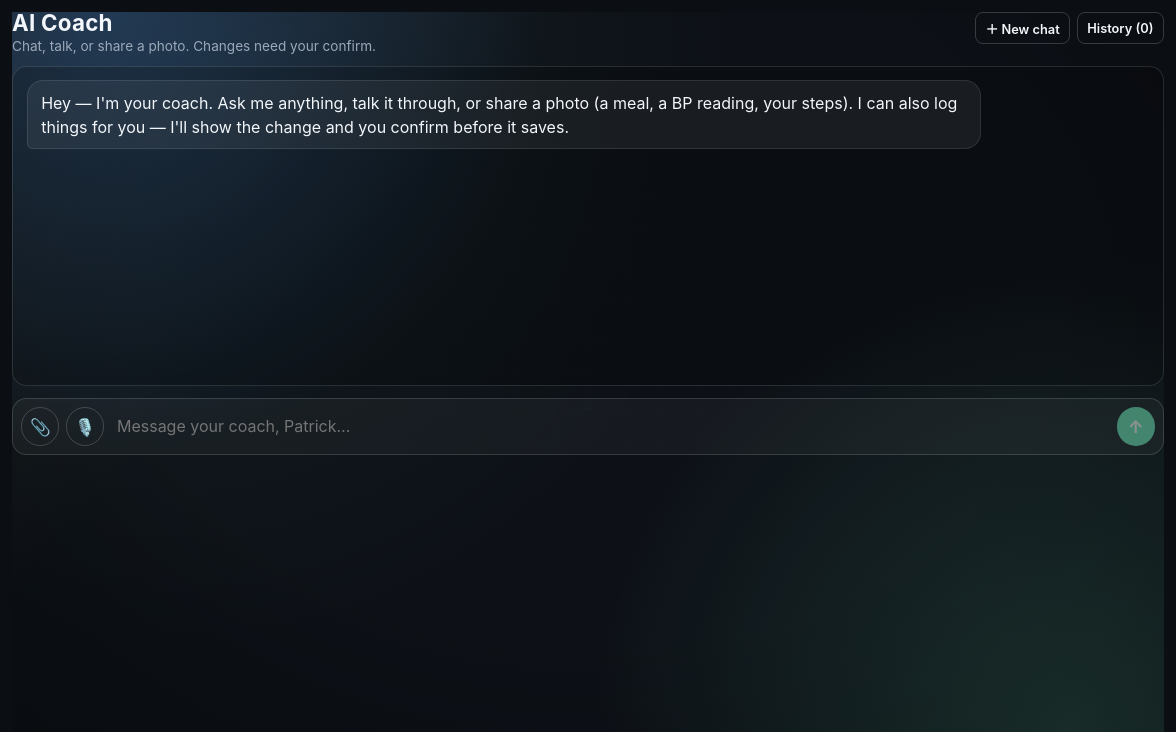
Scenario: AICoachPanel › sends a chat message and renders the AI response
The width and height of the screenshot is (1176, 732).
Type "What should I focus on today?" into the text box labelled "Message" at [610, 426], box [111,407,1110,446]
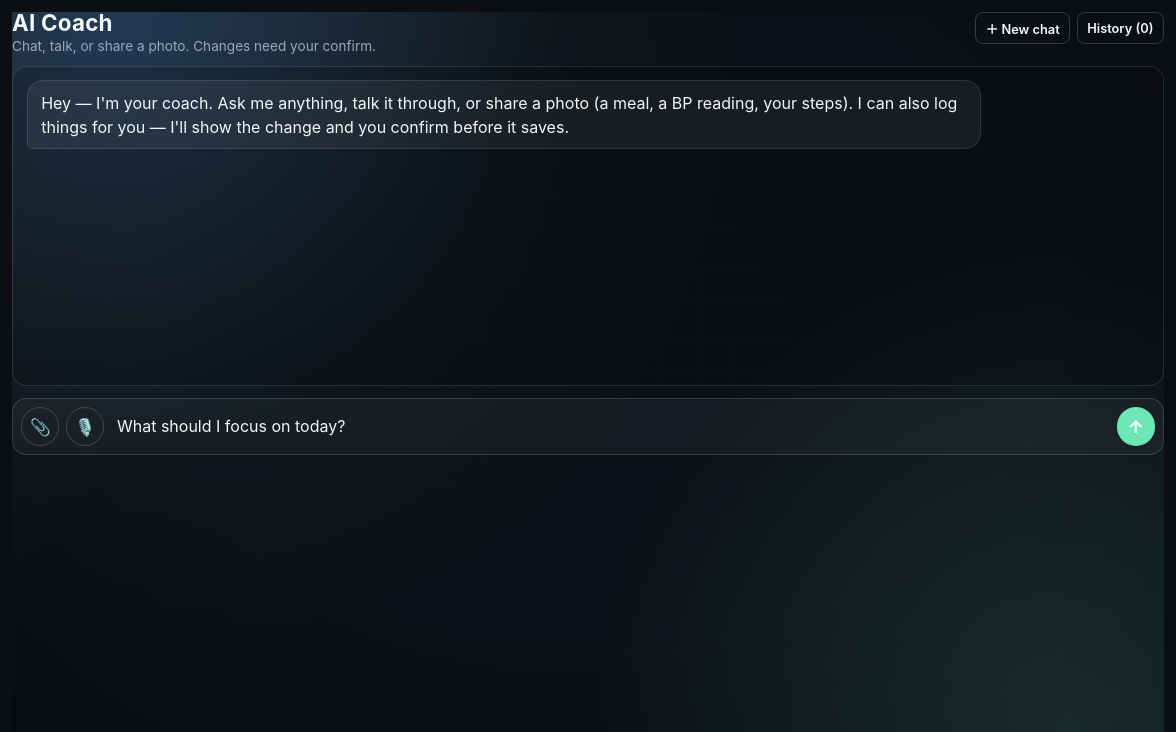
Click the button named "Send" at [1136, 427], box [1117,407,1155,446]
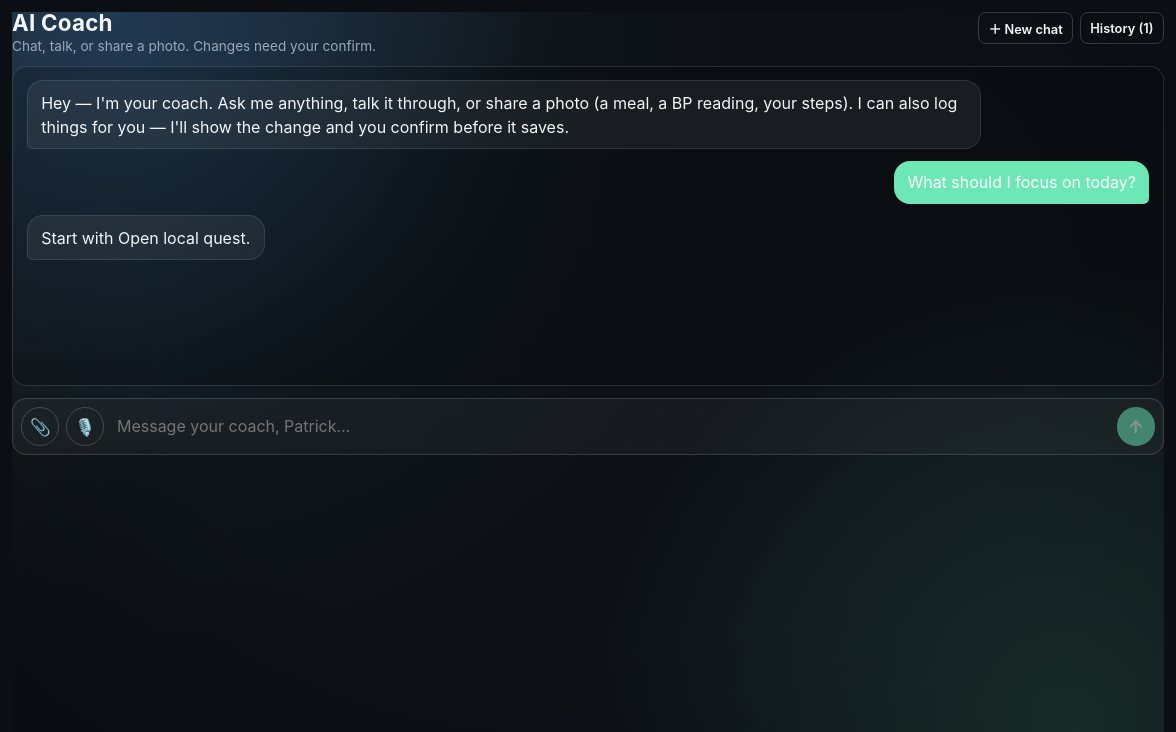
Result: the text "Start with Open local quest." is shown at [41,226,250,250]
